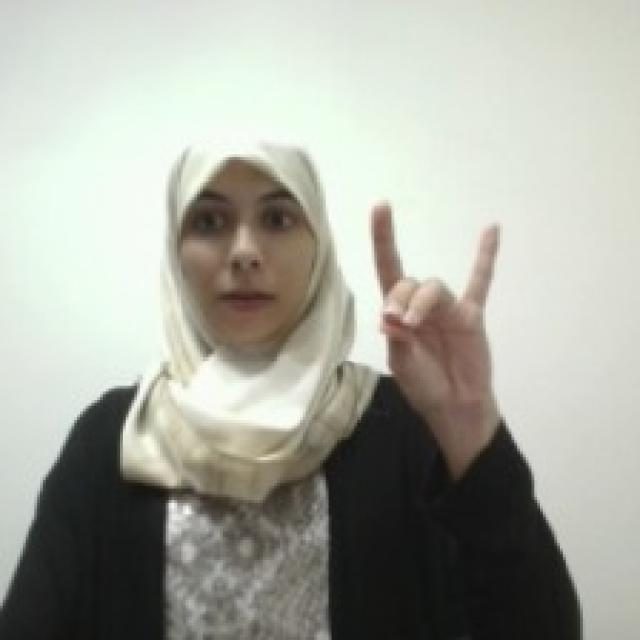Dog: (367, 194, 507, 412)
